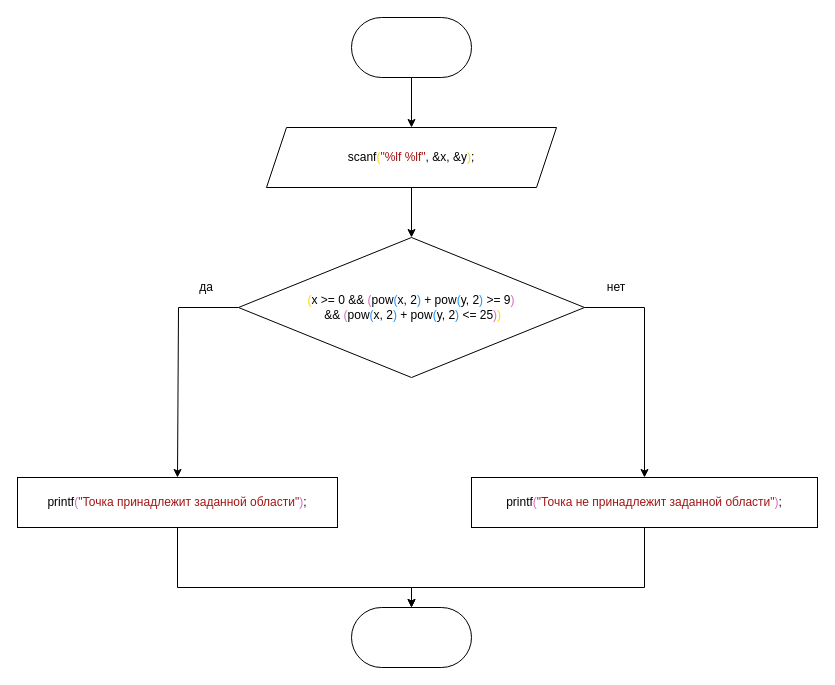
The diagram is 835 pixels wide and 685 high, and some of its shapes have lost their labels. The box of each missing label's shape, as (x1, y1, x2, y2) in pixels:
Конец: (350, 606, 472, 668)
Начало: (350, 16, 472, 78)
